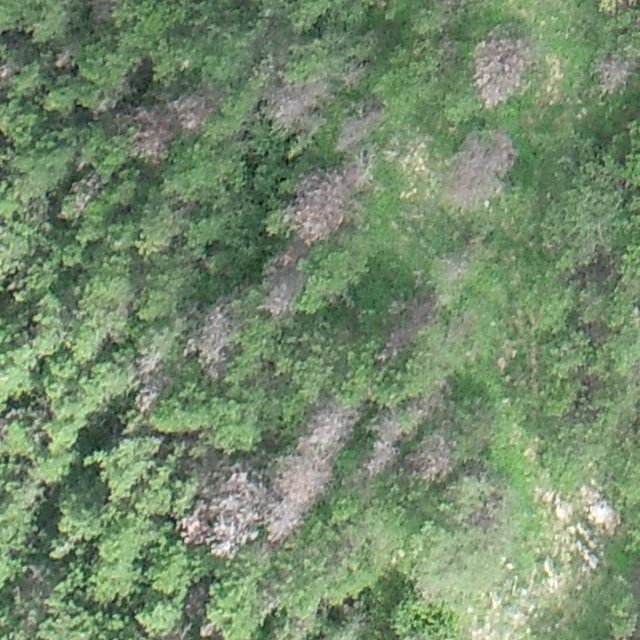unhealthy: (180, 465, 272, 555), (263, 448, 337, 540), (284, 162, 367, 242), (448, 130, 516, 206), (376, 292, 435, 364), (186, 301, 237, 378), (472, 35, 528, 105), (263, 76, 329, 130), (305, 399, 359, 448), (404, 431, 456, 480), (129, 107, 173, 164), (131, 354, 172, 413), (336, 101, 383, 151), (169, 88, 214, 134), (63, 173, 104, 219), (262, 275, 302, 321), (591, 55, 632, 95), (406, 385, 448, 419), (362, 439, 398, 477), (435, 246, 472, 282), (340, 60, 371, 91), (366, 417, 401, 440), (88, 0, 119, 22), (0, 58, 18, 93), (52, 45, 76, 71)
